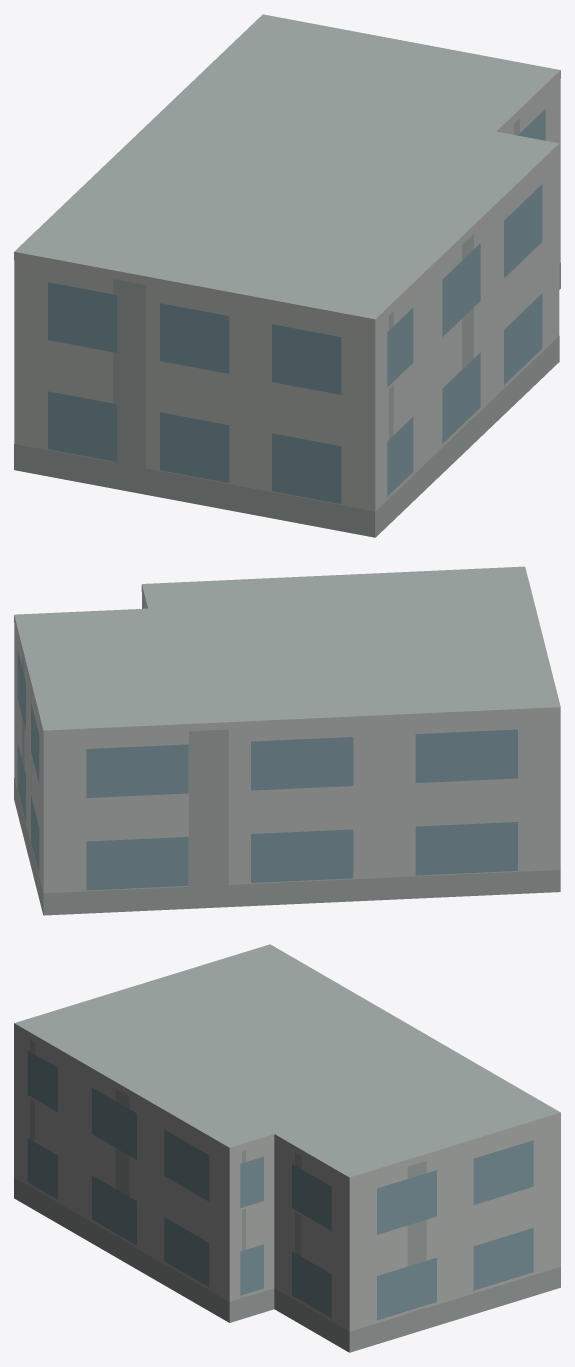
File: residential-0c81b2ee-b763-44c8-afac-c79f8ac21295.glb
3 renders of one model, top to bottom at view 1: azimuth 30°, elevation 25°; view 2: azimuth 150°, elevation 25°; view 3: azimuth 270°, elevation 25°, orthographic. The views are drawn at different scales.
Visible parts, largest first — view 1: residential-0c81b2ee-b763-44c8-afac-c79f8ac21295.tmp; view 2: residential-0c81b2ee-b763-44c8-afac-c79f8ac21295.tmp; view 3: residential-0c81b2ee-b763-44c8-afac-c79f8ac21295.tmp.
Part boxes in pixels (box(x1,y1,x2,y2)): residential-0c81b2ee-b763-44c8-afac-c79f8ac21295.tmp: box(14, 14, 560, 537); residential-0c81b2ee-b763-44c8-afac-c79f8ac21295.tmp: box(14, 566, 560, 915); residential-0c81b2ee-b763-44c8-afac-c79f8ac21295.tmp: box(14, 944, 560, 1352).
Bounding box in the file's own units: 17.44 × 6.1 × 17.26.
